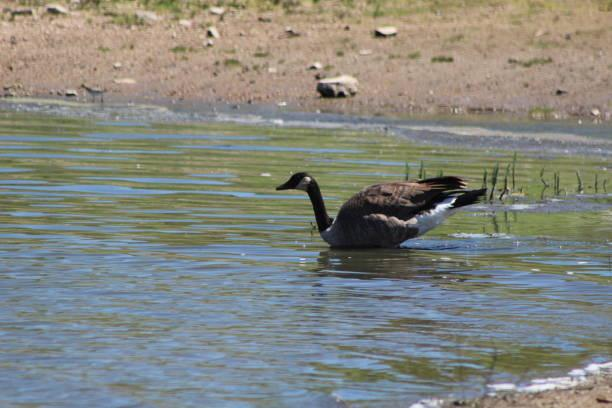Canadian-Goose: (274, 169, 485, 251)
